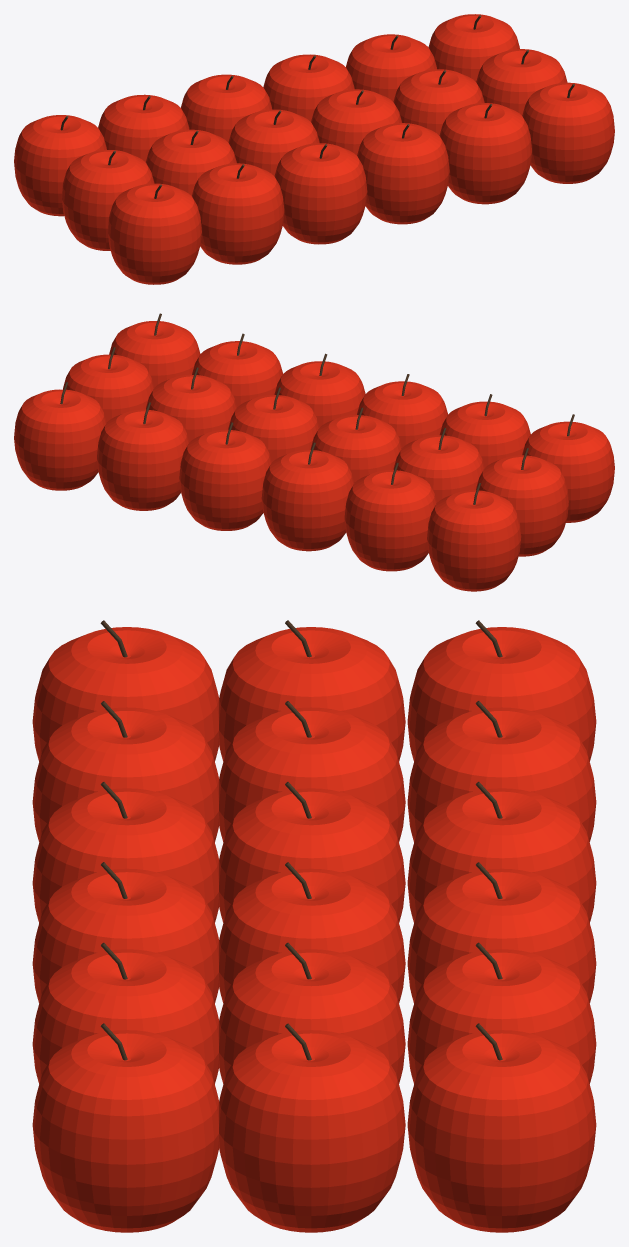
File: PommeRougeGroupe.fbx
The picture shows the model from 3 angles, top to bottom: view 1: azimuth 30°, elevation 25°; view 2: azimuth 150°, elevation 25°; view 3: azimuth 270°, elevation 25°; orthographic projection. The views are drawn at different scales.
Visible parts, largest first — view 1: rouge, rouge.002, rouge.003, rouge.001, rouge.005, rouge.004, rouge.012, rouge.011, rouge.014, rouge.015, rouge.016, rouge.017 (+6 smaller); view 2: rouge.012, rouge.015, rouge.014, rouge.013, rouge.016, rouge.017, rouge.011, rouge, rouge.008, rouge.009, rouge.010, rouge.007 (+6 smaller); view 3: rouge.015, rouge.008, rouge.003, rouge.013, rouge.016, rouge.007, rouge.010, rouge.017, rouge.001, rouge.012, rouge.004, rouge.014 (+6 smaller).
Part boxes in pixels (x1=…): rouge: x1=107, y1=183, x2=201, y2=284; rouge.002: x1=274, y1=143, x2=367, y2=244; rouge.003: x1=522, y1=82, x2=614, y2=183; rouge.001: x1=192, y1=163, x2=284, y2=264; rouge.005: x1=357, y1=123, x2=449, y2=224; rouge.004: x1=439, y1=103, x2=531, y2=204; rouge.012: x1=14, y1=115, x2=106, y2=216; rouge.011: x1=61, y1=150, x2=154, y2=250; rouge.014: x1=181, y1=74, x2=272, y2=142; rouge.015: x1=428, y1=14, x2=519, y2=81; rouge.016: x1=346, y1=34, x2=436, y2=101; rouge.017: x1=263, y1=54, x2=354, y2=121; rouge.012: x1=427, y1=490, x2=521, y2=591; rouge.015: x1=14, y1=389, x2=106, y2=490; rouge.014: x1=261, y1=450, x2=354, y2=551; rouge.013: x1=344, y1=470, x2=436, y2=571; rouge.016: x1=97, y1=409, x2=189, y2=510; rouge.017: x1=179, y1=430, x2=271, y2=530; rouge.011: x1=476, y1=455, x2=568, y2=556; rouge: x1=522, y1=421, x2=614, y2=522; rouge.008: x1=63, y1=354, x2=154, y2=422; rouge.009: x1=310, y1=415, x2=401, y2=482; rouge.010: x1=393, y1=435, x2=484, y2=502; rouge.007: x1=146, y1=374, x2=236, y2=442; rouge.015: x1=407, y1=1030, x2=596, y2=1232; rouge.008: x1=219, y1=1030, x2=405, y2=1232; rouge.003: x1=32, y1=1030, x2=218, y2=1232; rouge.013: x1=407, y1=707, x2=596, y2=842; rouge.016: x1=407, y1=949, x2=596, y2=1084; rouge.007: x1=219, y1=949, x2=405, y2=1083; rouge.010: x1=219, y1=707, x2=405, y2=841; rouge.017: x1=407, y1=868, x2=596, y2=1003; rouge.001: x1=32, y1=707, x2=218, y2=842; rouge.012: x1=407, y1=627, x2=596, y2=761; rouge.004: x1=32, y1=949, x2=218, y2=1084; rouge.014: x1=407, y1=788, x2=596, y2=922.
Bounding box in the file's own units: 479 × 88.17 × 236.
